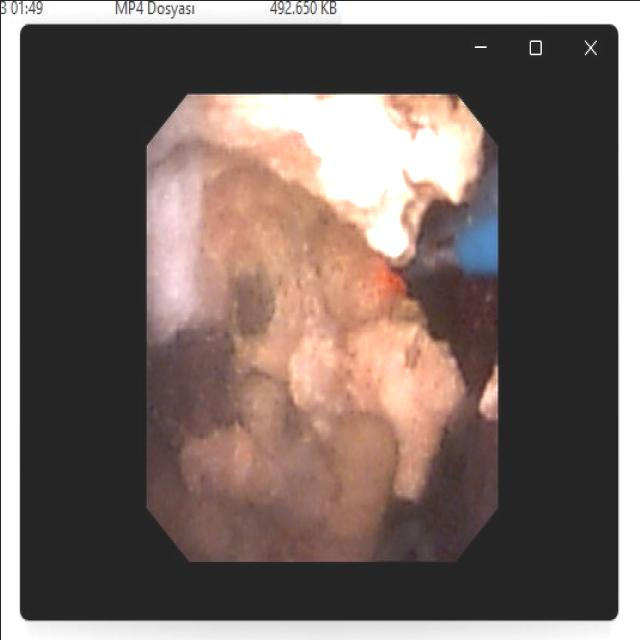fiber: (455, 218, 494, 273)
stone: (152, 98, 481, 554)
